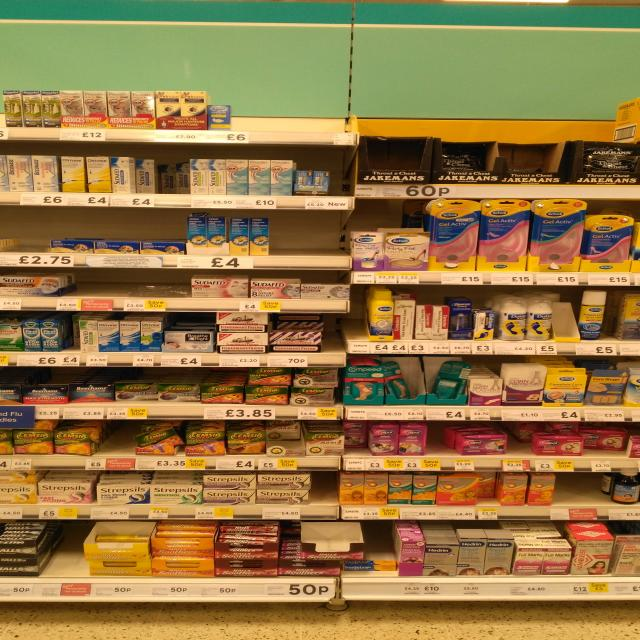empty: (230, 90, 349, 134), (358, 126, 439, 183), (77, 262, 194, 298), (273, 210, 342, 253), (33, 519, 83, 578), (3, 208, 51, 256), (93, 416, 142, 458), (556, 473, 613, 504)
